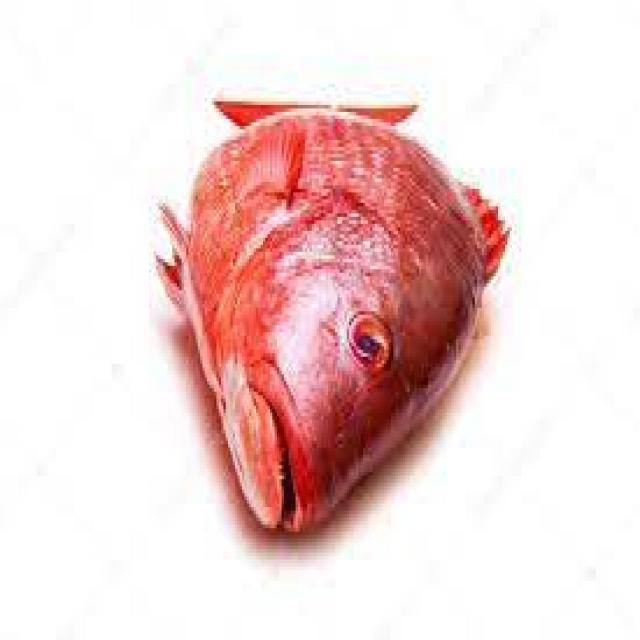northern-red-snapper: (149, 78, 516, 560)
